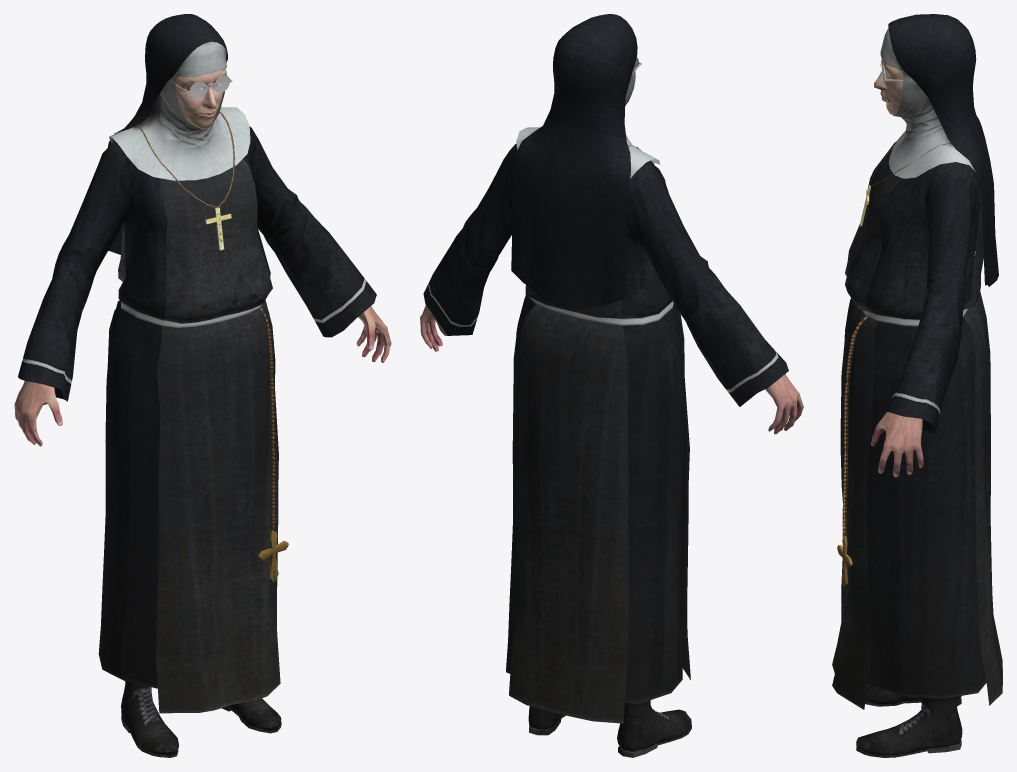
File: Nun.FBX
The picture shows the model from 3 angles, left to right: view 1: azimuth 30°, elevation 25°; view 2: azimuth 150°, elevation 25°; view 3: azimuth 270°, elevation 25°; orthographic projection.
Visible parts, largest first — view 1: 36cfb920.o, 36d02540.o, 379ca168.o, 379cbc70.o, 3750bad0.o, 379b7810.o, 36a1a778.o, 36a09928.o, 36a10548.o, 36cfd428.o; view 2: 36cfb920.o, 379cbc70.o, 36d02540.o, 3750bad0.o, 379b7810.o, 36cfd428.o, 379ca168.o, 36a10548.o; view 3: 36cfb920.o, 36d02540.o, 379cbc70.o, 3750bad0.o, 379ca168.o, 379b7810.o, 36a09928.o, 36a10548.o, 36a1a778.o, 36cfd428.o.
Part boxes in pixels (left/top/right/bottom): 36cfb920.o: left=98, top=300, right=280, bottom=713; 36d02540.o: left=18, top=126, right=376, bottom=401; 379ca168.o: left=109, top=42, right=250, bottom=180; 379cbc70.o: left=108, top=14, right=227, bottom=254; 3750bad0.o: left=121, top=681, right=281, bottom=757; 379b7810.o: left=14, top=306, right=391, bottom=446; 36a1a778.o: left=159, top=69, right=226, bottom=129; 36a09928.o: left=258, top=306, right=288, bottom=582; 36a10548.o: left=118, top=112, right=234, bottom=281; 36cfd428.o: left=121, top=301, right=264, bottom=327; 36cfb920.o: left=506, top=295, right=690, bottom=723; 379cbc70.o: left=511, top=14, right=637, bottom=309; 36d02540.o: left=423, top=144, right=788, bottom=406; 3750bad0.o: left=528, top=700, right=691, bottom=757; 379b7810.o: left=420, top=305, right=803, bottom=434; 36cfd428.o: left=528, top=296, right=673, bottom=325; 379ca168.o: left=516, top=65, right=660, bottom=178; 36a10548.o: left=525, top=145, right=640, bottom=318; 36cfb920.o: left=832, top=291, right=1002, bottom=709; 36d02540.o: left=845, top=141, right=980, bottom=432; 379cbc70.o: left=888, top=14, right=998, bottom=286; 3750bad0.o: left=856, top=687, right=962, bottom=757; 379ca168.o: left=880, top=28, right=975, bottom=178; 379b7810.o: left=871, top=412, right=923, bottom=477; 36a09928.o: left=837, top=315, right=868, bottom=588; 36a10548.o: left=860, top=132, right=983, bottom=309; 36a1a778.o: left=874, top=58, right=903, bottom=116; 36cfd428.o: left=862, top=308, right=968, bottom=326.
Size of what is drawn, in the model's own units: 717 by 1317 by 289.
